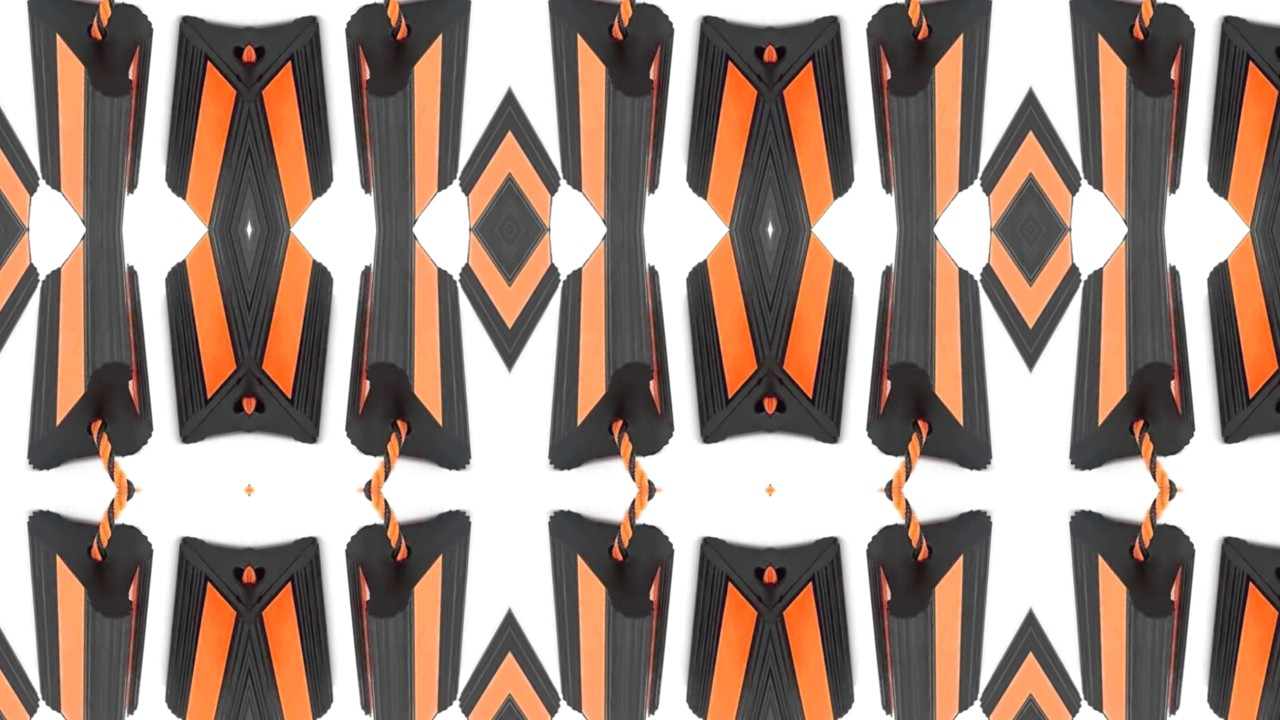chock: (285, 229, 510, 490), (510, 229, 734, 490), (807, 229, 1031, 490), (1032, 229, 1256, 490), (0, 229, 212, 490), (285, 490, 510, 720), (285, 0, 510, 229), (510, 490, 734, 720), (807, 490, 1031, 720), (1032, 490, 1256, 720), (510, 0, 734, 229), (807, 0, 1031, 229), (1032, 0, 1256, 229), (0, 490, 212, 720), (0, 0, 212, 229), (248, 230, 383, 462), (636, 230, 771, 462), (770, 230, 905, 462), (114, 230, 248, 462), (248, 0, 383, 229), (636, 0, 771, 229), (770, 0, 905, 229), (114, 0, 248, 229), (1158, 230, 1280, 462), (1158, 0, 1280, 229), (248, 519, 383, 720), (636, 519, 771, 720), (770, 519, 905, 720), (114, 519, 248, 720), (1158, 519, 1280, 720)
